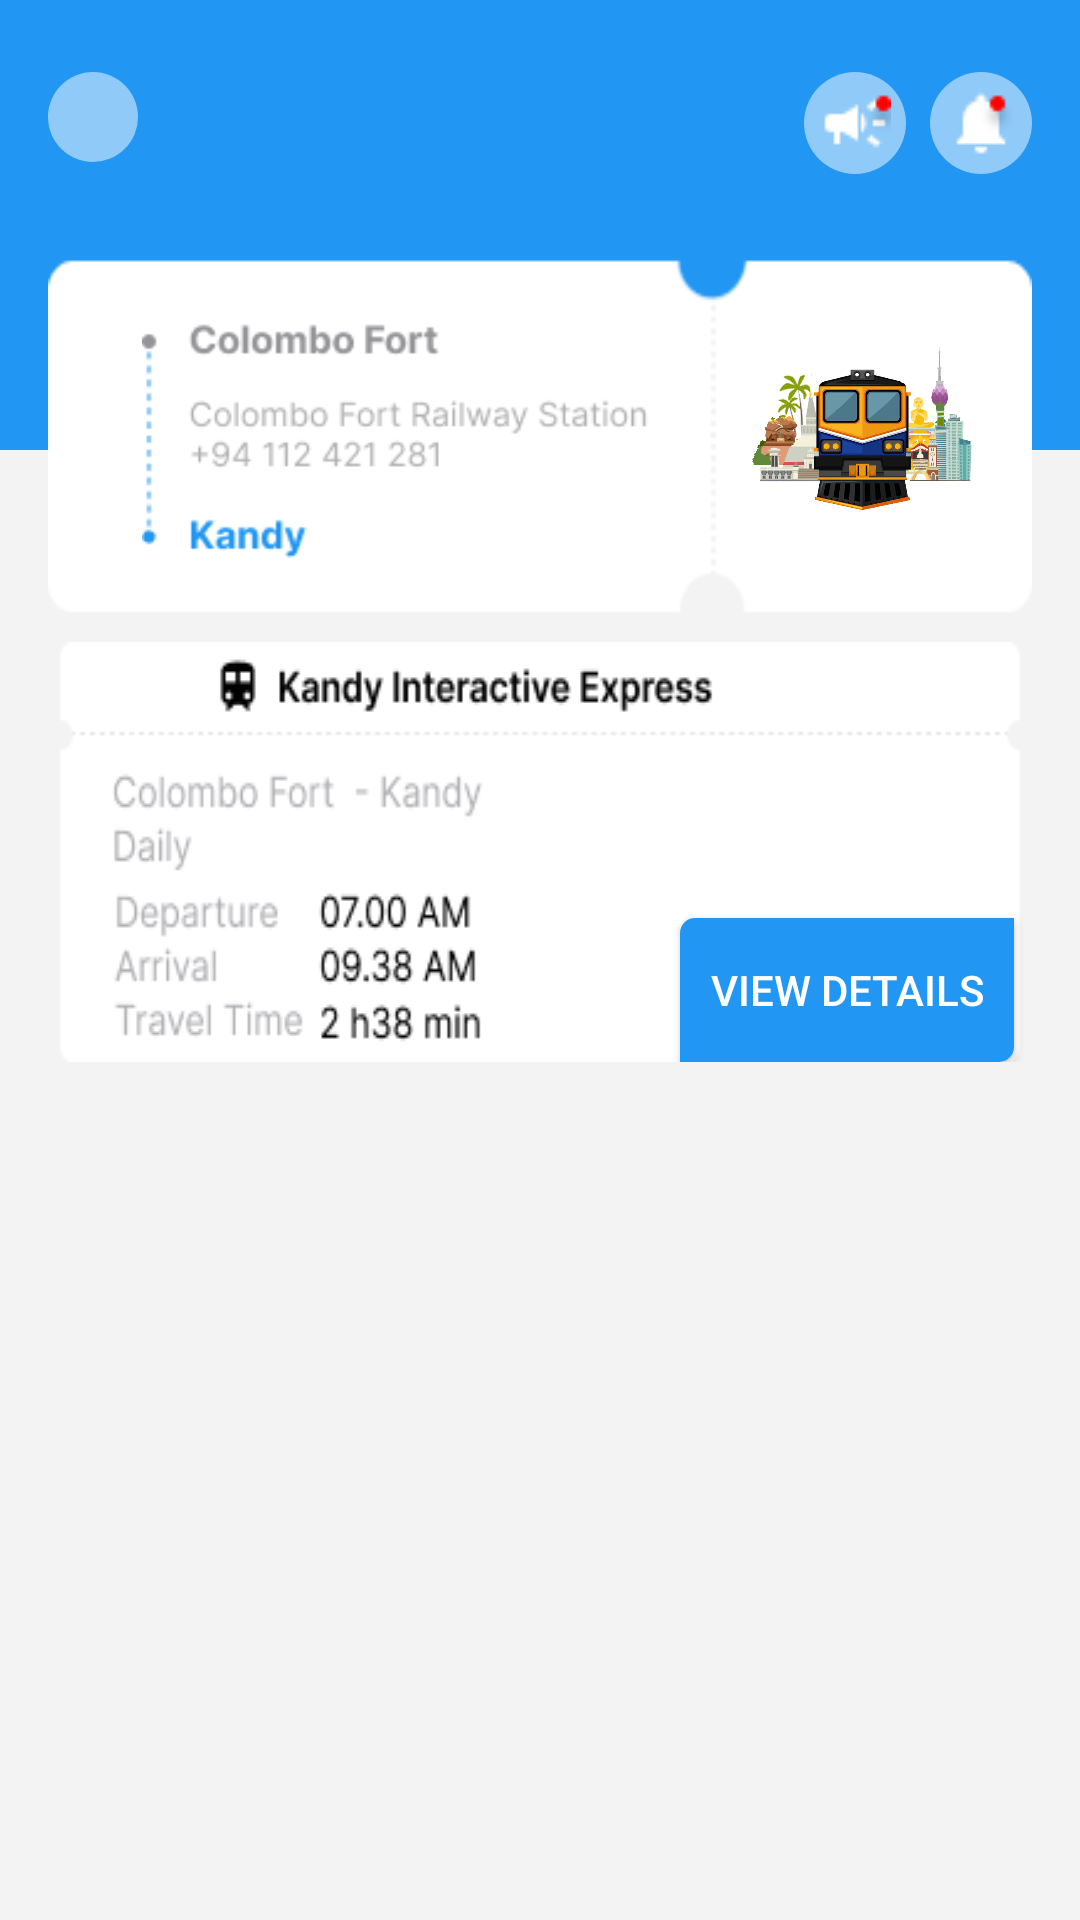

Screen size 1080w x 1920h. Icon name, then its box in pixels as [x1, y1, x2, y2]:
notifications: [930, 72, 1032, 174]
speaker: [804, 72, 906, 174]
